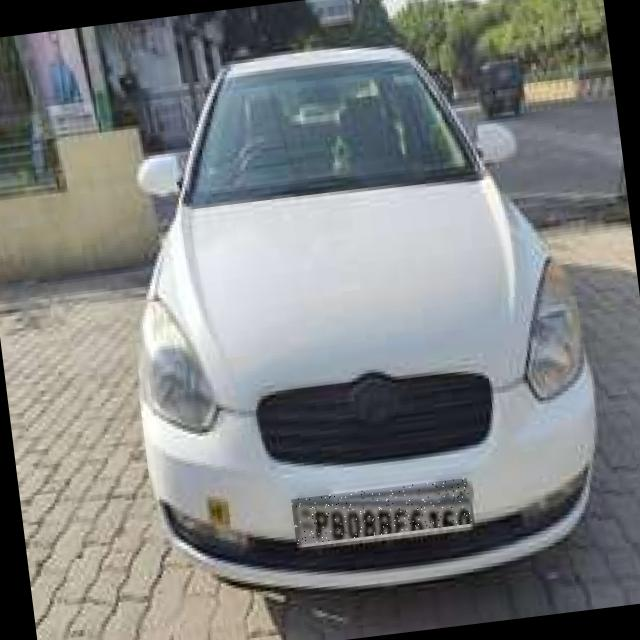Plate: (292, 479, 473, 546)
